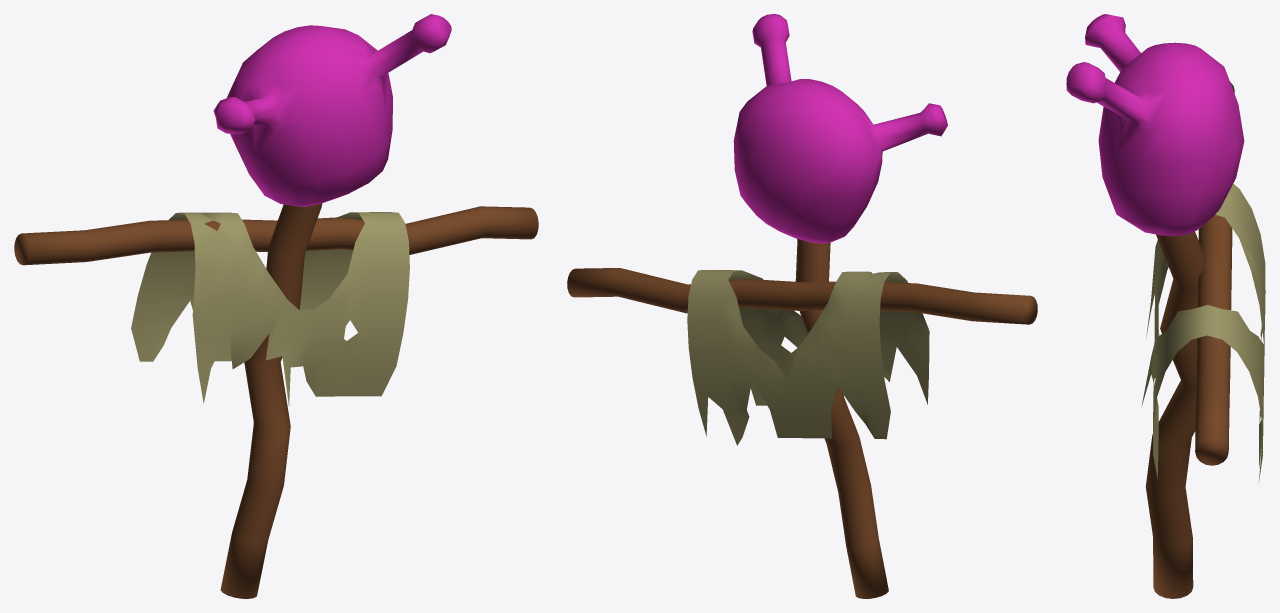
Rendered from scarecrow.obj.
The picture shows the model from 3 angles, left to right: view 1: azimuth 30°, elevation 25°; view 2: azimuth 150°, elevation 25°; view 3: azimuth 270°, elevation 25°; orthographic projection. The views are drawn at different scales.
Parts seen in each view (by area): view 1: 円柱.001; view 2: 円柱.001; view 3: 円柱.001.
Part boxes in pixels (x1,y1,x2,y2): 円柱.001: (14, 14, 538, 598); 円柱.001: (567, 14, 1037, 598); 円柱.001: (1066, 14, 1265, 598).
Bounding box in the file's own units: 4.67 × 5 × 1.49.
Materials: 1 (1 with a texture image).
